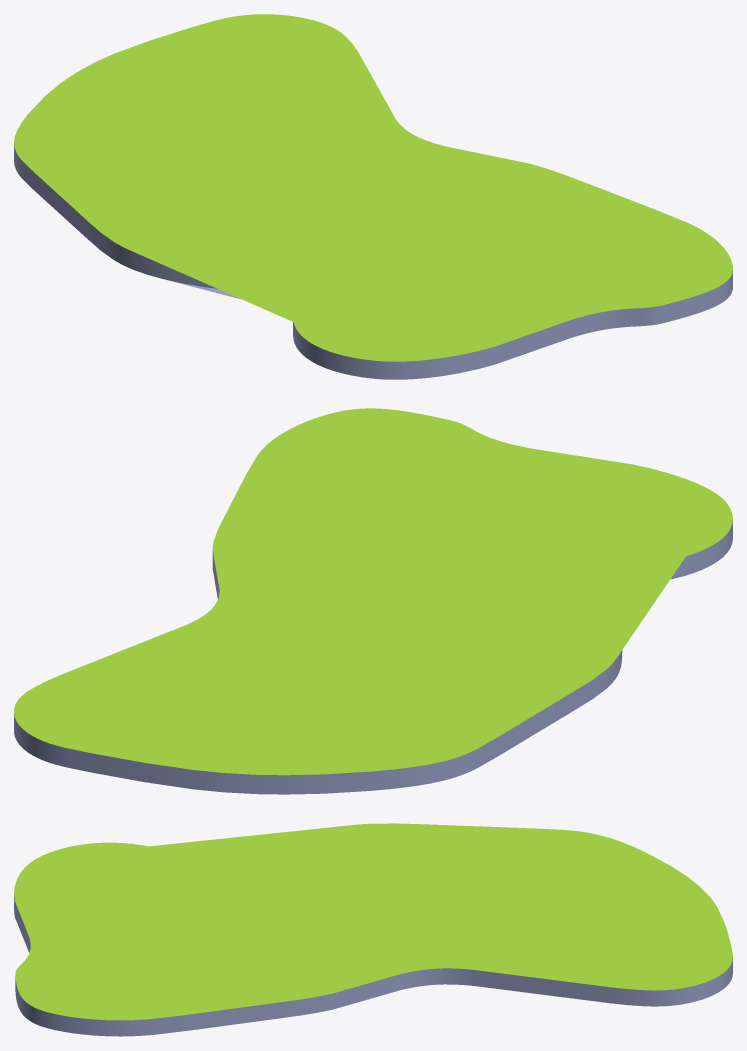
The picture shows the model from 3 angles, top to bottom: view 1: azimuth 30°, elevation 25°; view 2: azimuth 150°, elevation 25°; view 3: azimuth 270°, elevation 25°; orthographic projection. The views are drawn at different scales.
Parts seen in each view (by area): view 1: Extrude_1; view 2: Extrude_1; view 3: Extrude_1.
Boxes of the visible parts, x1,y1,x2,y2 form: Extrude_1: [14, 14, 732, 379]; Extrude_1: [14, 408, 732, 794]; Extrude_1: [14, 823, 732, 1036].
Bounding box in the file's own units: 789 × 30 × 1217.
